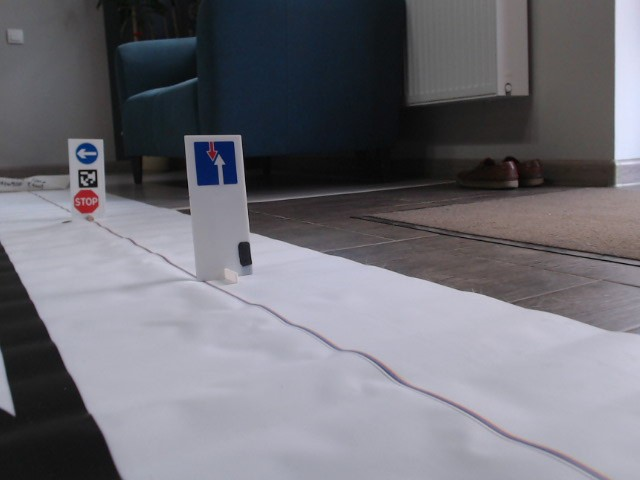Stop: (72, 189, 99, 214)
priority_movement: (193, 141, 239, 186)
